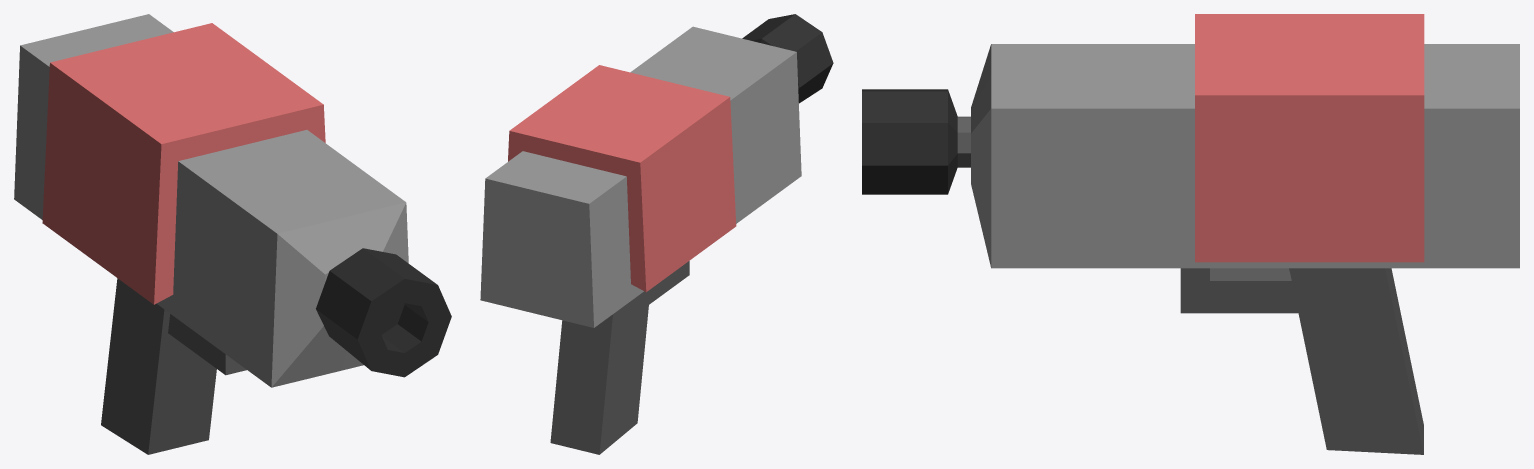
The model's file is HandFab.fbx.
The picture shows the model from 3 angles, left to right: view 1: azimuth 30°, elevation 25°; view 2: azimuth 150°, elevation 25°; view 3: azimuth 270°, elevation 25°; orthographic projection. The views are drawn at different scales.
Visible parts, largest first — view 1: Cube.108; view 2: Cube.108; view 3: Cube.108.
Part boxes in pixels (box(x1,y1,x2,y2)): Cube.108: box(14, 14, 451, 454); Cube.108: box(480, 14, 833, 454); Cube.108: box(862, 14, 1519, 454).
Bounding box in the file's own units: 8.17 × 16.51 × 25.56.
